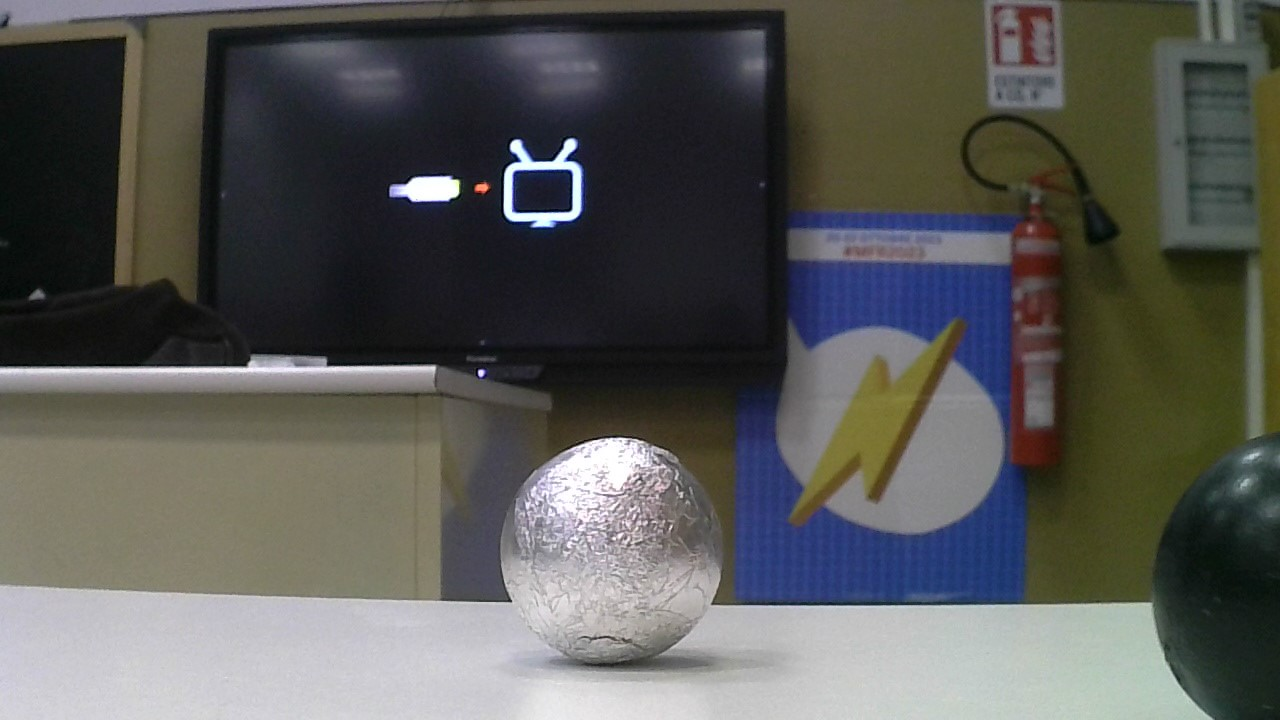silver_ball: (491, 427, 729, 671)
